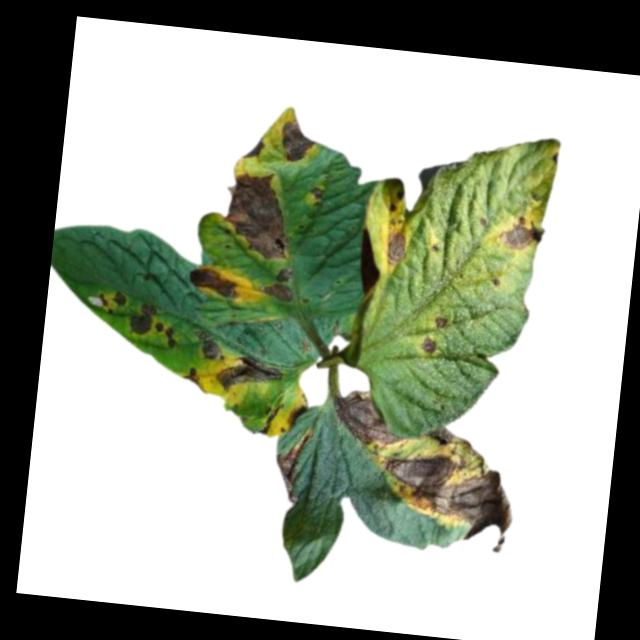Early_blight: (372, 441, 520, 553), (220, 169, 297, 263), (329, 386, 410, 446), (214, 347, 285, 398), (270, 426, 308, 505), (495, 212, 545, 257), (185, 265, 241, 302), (276, 119, 317, 166), (256, 264, 296, 305), (421, 423, 471, 449), (381, 224, 408, 272), (190, 331, 226, 364), (124, 302, 157, 336), (97, 288, 127, 317), (178, 365, 208, 392), (152, 321, 178, 351), (242, 134, 266, 163), (285, 405, 309, 429), (416, 334, 437, 357), (308, 186, 324, 210), (431, 315, 447, 332)
